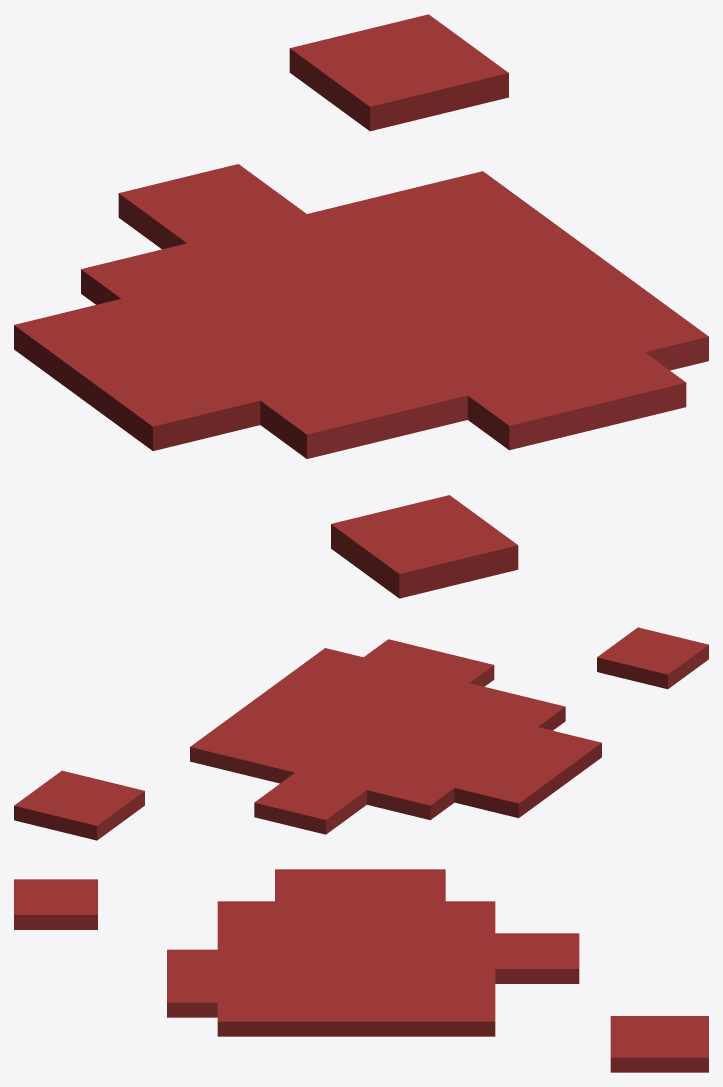
Rendered from SA_Prop_Bloodstain_03.glb.
The picture shows the model from 3 angles, top to bottom: view 1: azimuth 30°, elevation 25°; view 2: azimuth 150°, elevation 25°; view 3: azimuth 270°, elevation 25°; orthographic projection. The views are drawn at different scales.
Visible parts, largest first — view 1: SA_Prop_Bloodstain_03; view 2: SA_Prop_Bloodstain_03; view 3: SA_Prop_Bloodstain_03.
Part boxes in pixels (<box>): SA_Prop_Bloodstain_03: <box>14,14,708,598</box>; SA_Prop_Bloodstain_03: <box>14,627,708,840</box>; SA_Prop_Bloodstain_03: <box>14,869,708,1072</box>.
Bounding box in the file's own units: 0.2705 × 0.0101 × 0.4216.
1 material, 1 textured.
